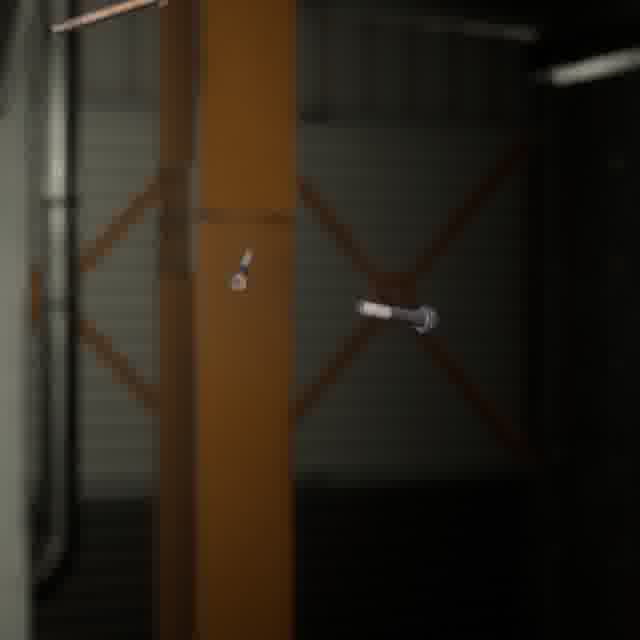bolt: (45, 0, 173, 41), (351, 295, 442, 339), (223, 243, 258, 297)
